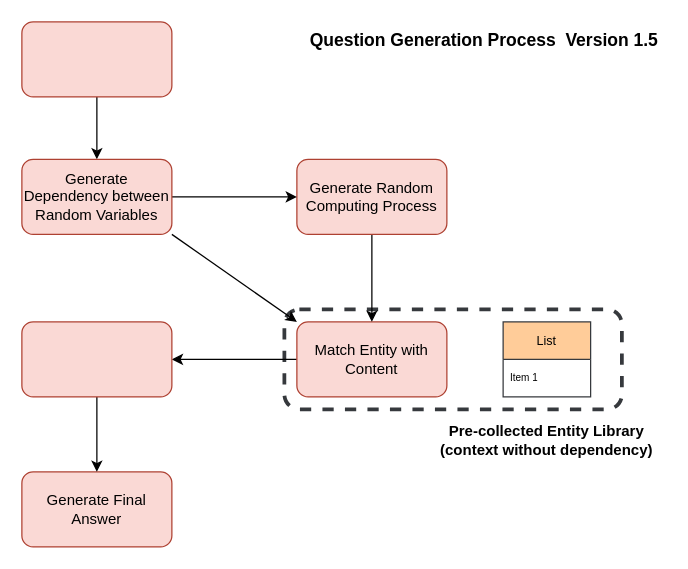
The diagram is 688 pixels wide and 569 high, and some of its shapes have lost their labels. Each missing label, with the centre of its shape:
Generate Random Variables: the point at 96,59
Organize into Question: the point at 96,359
